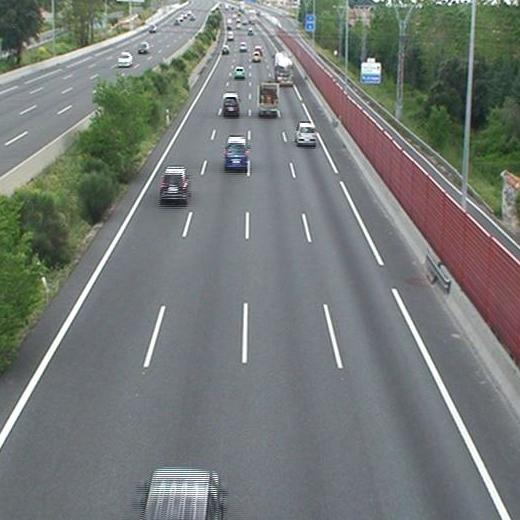car: (160, 169, 189, 201), (296, 122, 316, 145), (235, 67, 246, 77), (252, 53, 261, 61), (239, 42, 248, 50), (221, 46, 228, 55)
small-truck: (258, 84, 278, 116)
tank-truck: (274, 53, 292, 84)
van: (226, 138, 248, 169), (223, 95, 238, 116)
